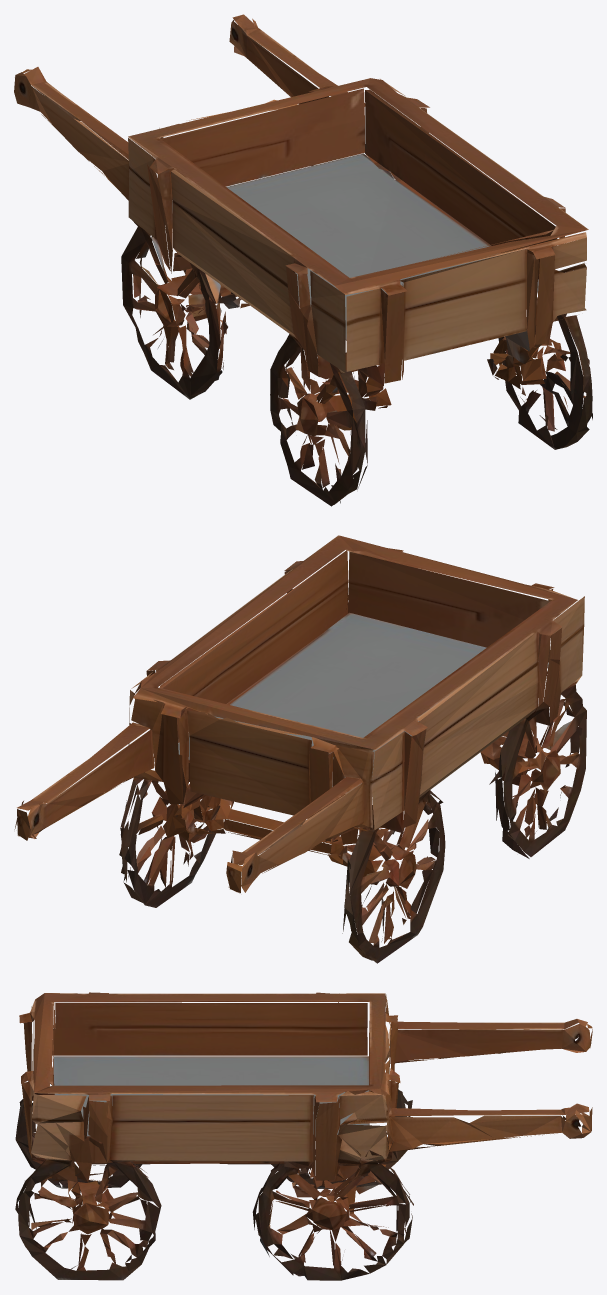
Rendered from cart.glb.
The picture shows the model from 3 angles, top to bottom: view 1: azimuth 30°, elevation 25°; view 2: azimuth 150°, elevation 25°; view 3: azimuth 270°, elevation 25°; orthographic projection. The views are drawn at different scales.
Parts seen in each view (by area): view 1: textured_mesh.obj; view 2: textured_mesh.obj; view 3: textured_mesh.obj.
Part boxes in pixels (x1,y1,x2,y2): textured_mesh.obj: [14, 14, 592, 506]; textured_mesh.obj: [14, 535, 586, 963]; textured_mesh.obj: [15, 992, 592, 1280].
Size of the model in its own units: 0.6806 by 0.5485 by 1.5.
1 material, 1 textured.
